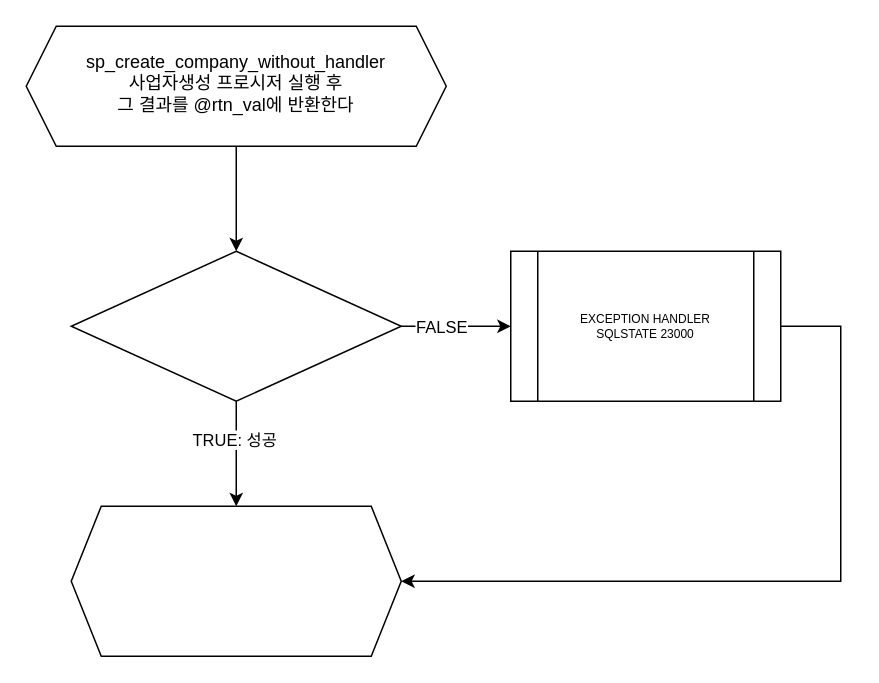
Image size: 879x683. Some labels were removed from this diagram. The shapes that lost their labels are listed below. From the top down, each one's centre as x and y in pixels, then its label:
the point at 235,325: 사업자생성 성공? @rtn_val = 0
the point at 235,580: sp_return_results (@rtn_val, @msg_txt, @json_data) 결과를 반환한다.
